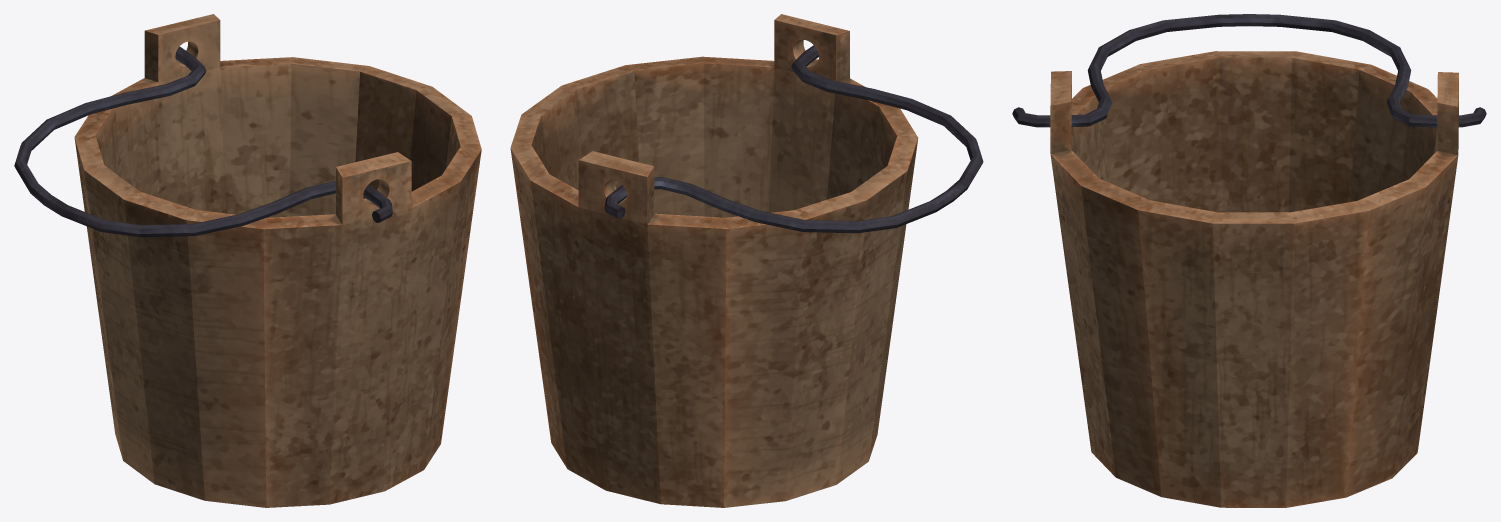
File: Bucket_01.fbx
3 views of the same model, side by side, from view 1: azimuth 30°, elevation 25°; view 2: azimuth 150°, elevation 25°; view 3: azimuth 270°, elevation 25° (orthographic).
Visible parts, largest first — view 1: Bucket_01; view 2: Bucket_01; view 3: Bucket_01.
Part boxes in pixels (x1=…): Bucket_01: x1=14, y1=14, x2=481, y2=507; Bucket_01: x1=510, y1=14, x2=983, y2=507; Bucket_01: x1=1012, y1=14, x2=1486, y2=507.
Size of the model in its own units: 36.71 by 29.43 by 35.94.
2 materials, 2 textured.
